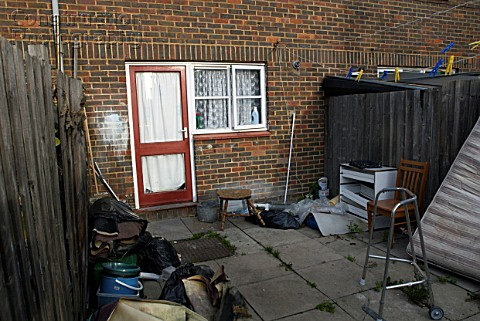bucket: (101, 273, 148, 298)
container: (96, 260, 148, 298), (197, 197, 221, 223)
trash: (92, 192, 151, 256)
